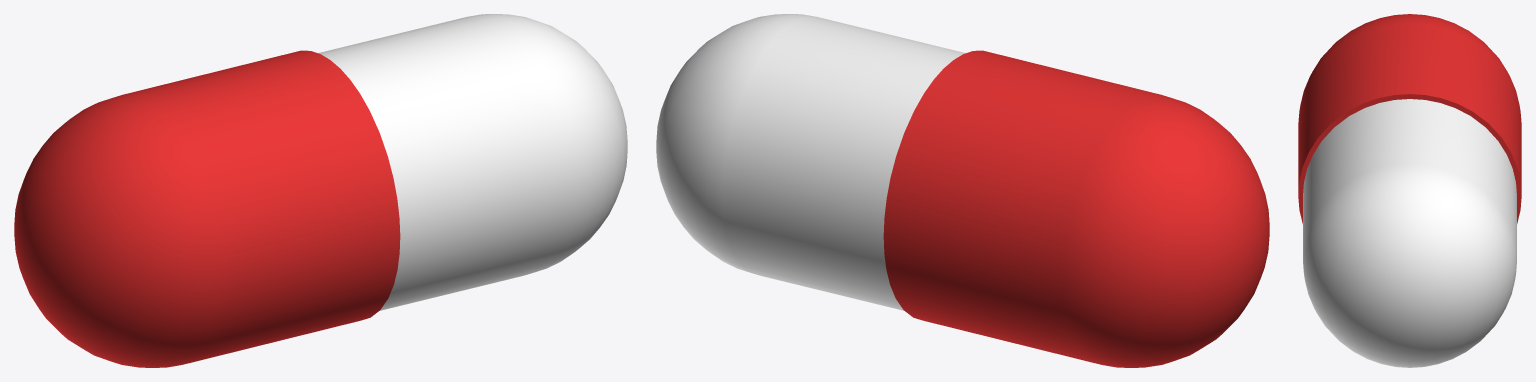
3 views of the same model, side by side, from view 1: azimuth 30°, elevation 25°; view 2: azimuth 150°, elevation 25°; view 3: azimuth 270°, elevation 25° (orthographic). The views are drawn at different scales.
Parts seen in each view (by area): view 1: Roundcube.001, Roundcube; view 2: Roundcube.001, Roundcube; view 3: Roundcube, Roundcube.001.
Boxes of the visible parts, <box> form: Roundcube.001: <box>14,50,400,367</box>; Roundcube: <box>318,14,627,310</box>; Roundcube.001: <box>883,50,1269,367</box>; Roundcube: <box>656,14,965,310</box>; Roundcube: <box>1303,99,1516,367</box>; Roundcube.001: <box>1298,14,1521,223</box>.
Size of the model in its own units: 0.8 by 0.333 by 0.3321.
